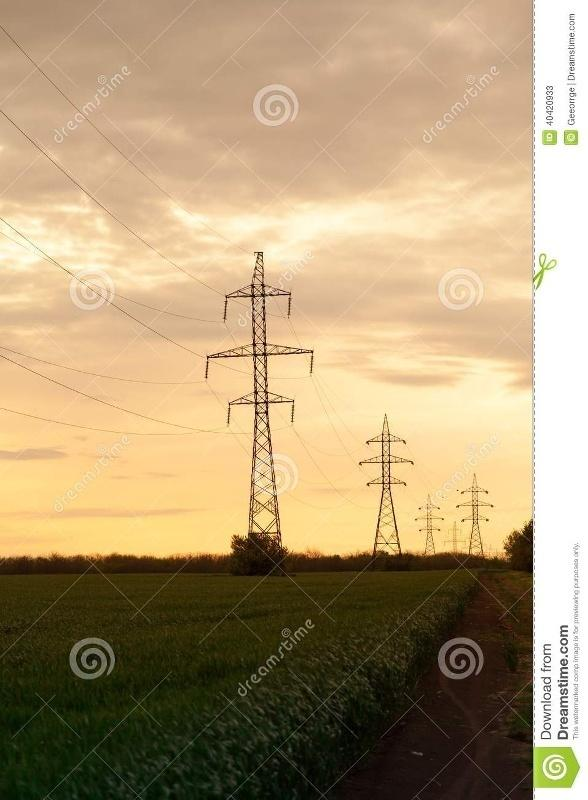power_tower: (218, 245, 319, 539), (360, 414, 417, 547)
